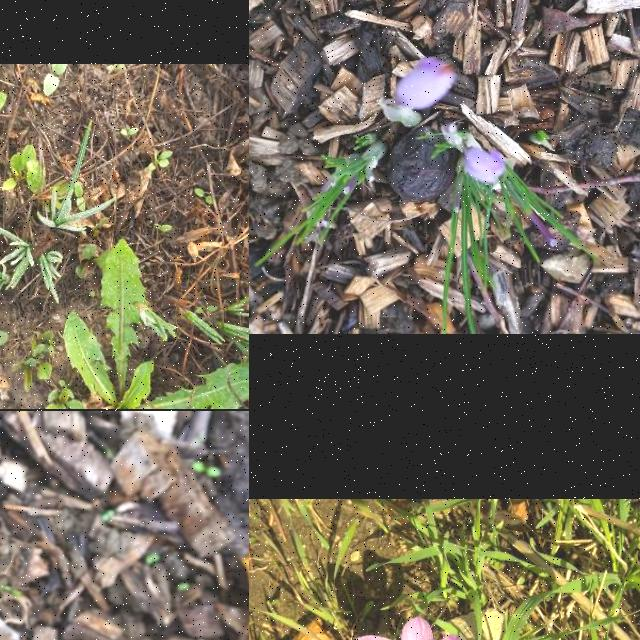flower: (398, 57, 457, 109)
